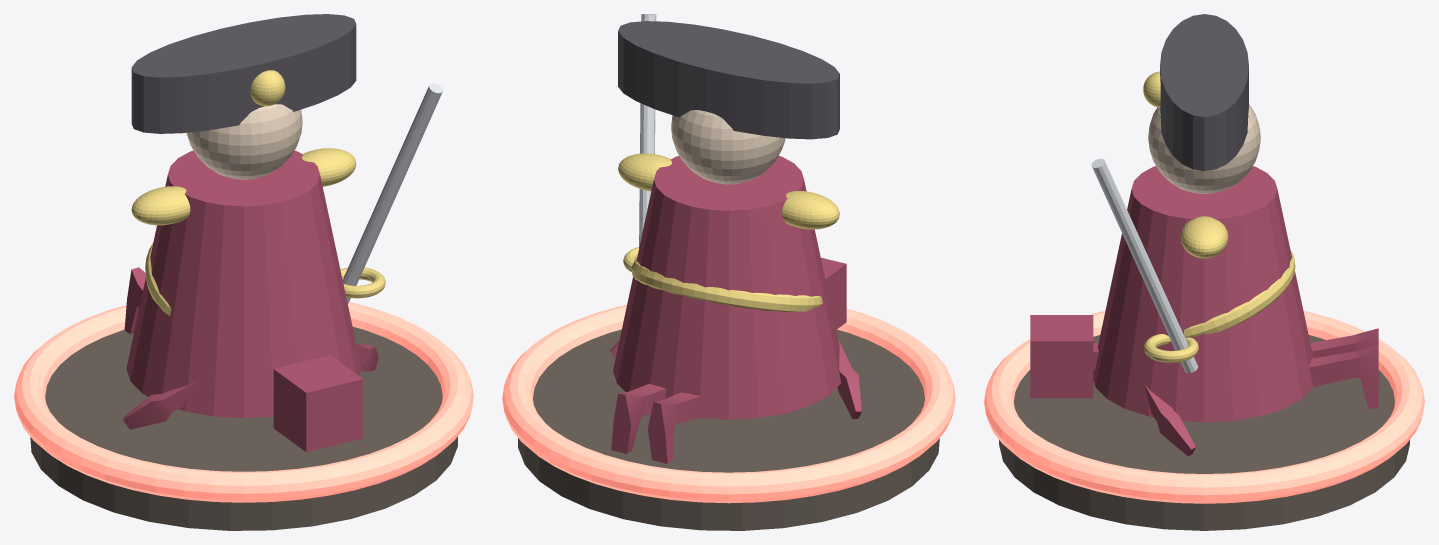
The model's file is enemy_commander.glb.
The picture shows the model from 3 angles, left to right: view 1: azimuth 30°, elevation 25°; view 2: azimuth 150°, elevation 25°; view 3: azimuth 270°, elevation 25°; orthographic projection. The views are drawn at different scales.
Visible parts, largest first — view 1: Cone, Cylinder, Torus, Cylinder.001, Proxy, Sphere.002, Cylinder.002, Sphere, Sphere.001, Sphere.003, Torus.002, Torus.001; view 2: Cone, Cylinder, Torus, Cylinder.001, Proxy, Sphere.002, Torus.001, Sphere, Sphere.001, Cylinder.002; view 3: Cone, Cylinder, Torus, Cylinder.001, Proxy, Sphere.002, Cylinder.002, Torus.001, Sphere.001, Torus.002, Sphere.003.
Boxes of the visible parts, x1=… form: Cone: x1=126, y1=150, x2=361, y2=418; Cylinder: x1=30, y1=326, x2=457, y2=530; Torus: x1=14, y1=302, x2=473, y2=502; Cylinder.001: x1=131, y1=14, x2=356, y2=133; Proxy: x1=123, y1=267, x2=378, y2=452; Sphere.002: x1=186, y1=104, x2=302, y2=179; Cylinder.002: x1=343, y1=83, x2=442, y2=303; Sphere: x1=131, y1=186, x2=190, y2=225; Sphere.001: x1=301, y1=148, x2=356, y2=186; Sphere.003: x1=250, y1=70, x2=285, y2=106; Torus.002: x1=340, y1=267, x2=385, y2=298; Torus.001: x1=145, y1=243, x2=171, y2=315; Cone: x1=613, y1=156, x2=840, y2=419; Cylinder: x1=518, y1=329, x2=939, y2=530; Torus: x1=502, y1=305, x2=955, y2=503; Cylinder.001: x1=618, y1=21, x2=839, y2=139; Proxy: x1=610, y1=257, x2=861, y2=463; Sphere.002: x1=671, y1=110, x2=785, y2=184; Torus.001: x1=631, y1=258, x2=822, y2=312; Sphere: x1=782, y1=191, x2=839, y2=229; Sphere.001: x1=618, y1=153, x2=671, y2=191; Cylinder.002: x1=639, y1=14, x2=656, y2=247; Cone: x1=1093, y1=166, x2=1313, y2=422; Cylinder: x1=999, y1=335, x2=1409, y2=530; Torus: x1=984, y1=311, x2=1424, y2=503; Cylinder.001: x1=1160, y1=14, x2=1248, y2=170; Proxy: x1=1030, y1=315, x2=1378, y2=456; Sphere.002: x1=1148, y1=104, x2=1260, y2=193; Cylinder.002: x1=1091, y1=158, x2=1198, y2=373; Torus.001: x1=1184, y1=250, x2=1295, y2=336; Sphere.001: x1=1180, y1=216, x2=1228, y2=258; Torus.002: x1=1144, y1=334, x2=1198, y2=362; Sphere.003: x1=1143, y1=71, x2=1160, y2=107.
Size of the model in its own units: 1.33 by 1.26 by 1.33.
